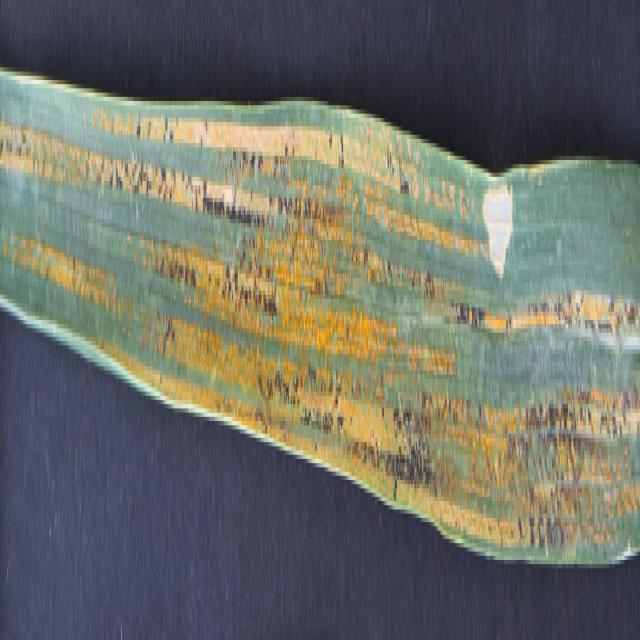leaf rust: (151, 177, 510, 518)
